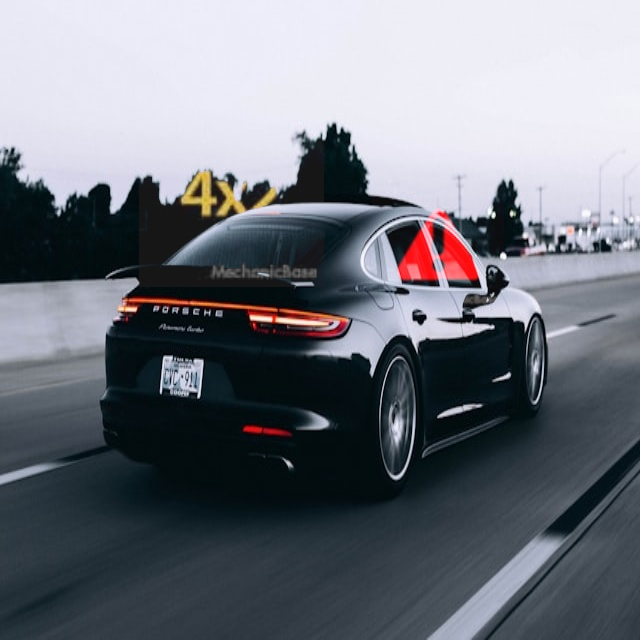symbol: (139, 102, 324, 287), (372, 178, 504, 310)
